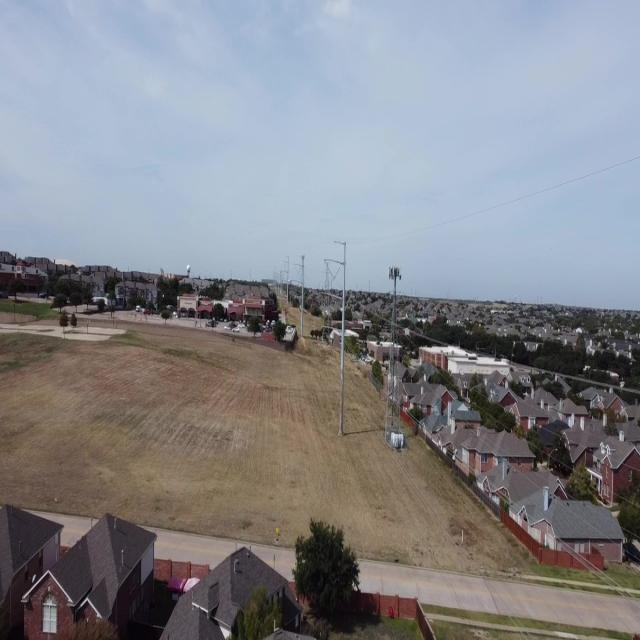杆塔: (383, 260, 405, 448), (320, 260, 335, 346)
